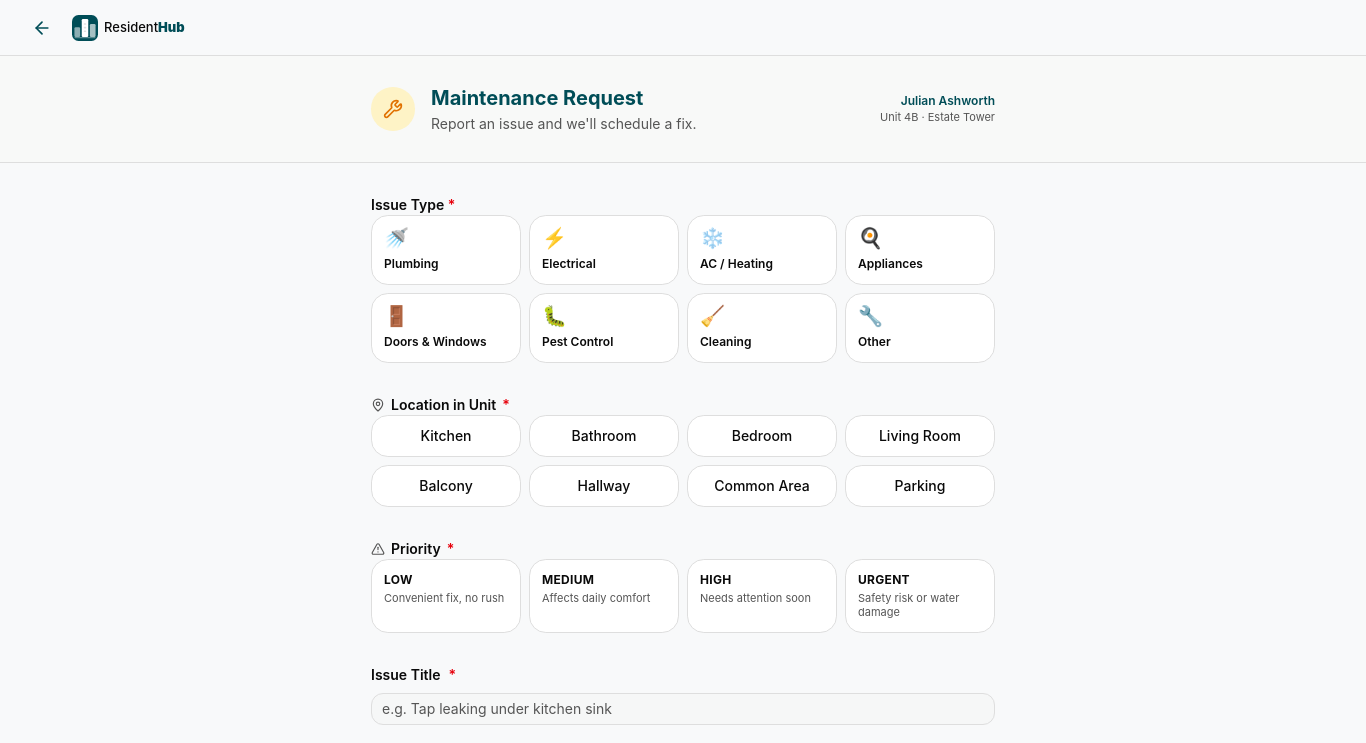
MaintenancePage › shows dynamic response-time estimate based on priority
This screenshot has width=1366, height=743.
What coordinates should you click on to do the following:
click the radio button labelled "Urgent Safety risk or water damage"
I would click on:
 (920, 596)
Its box is [845, 559, 995, 632].
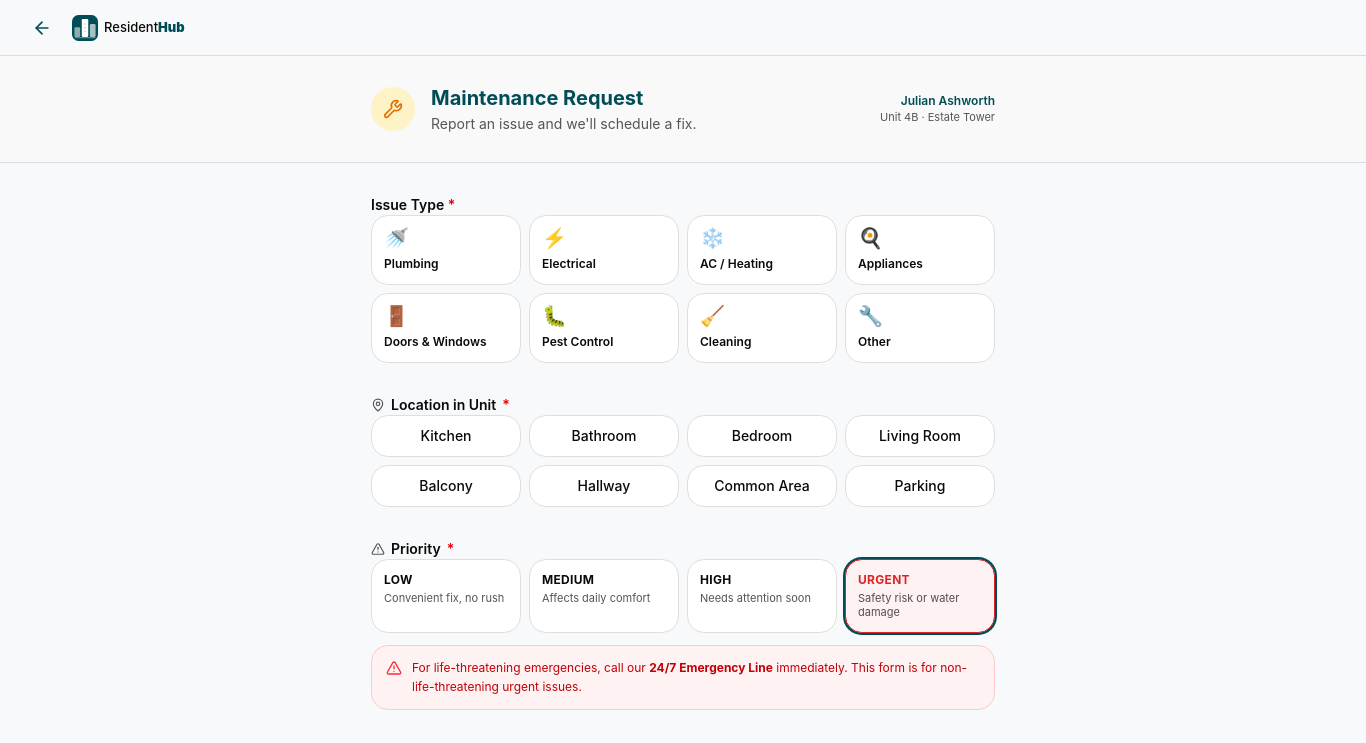
What coordinates should you click on to do the following:
click the radio button labelled "High Needs attention soon"
I would click on:
 (762, 596)
Its box is [687, 559, 837, 632].
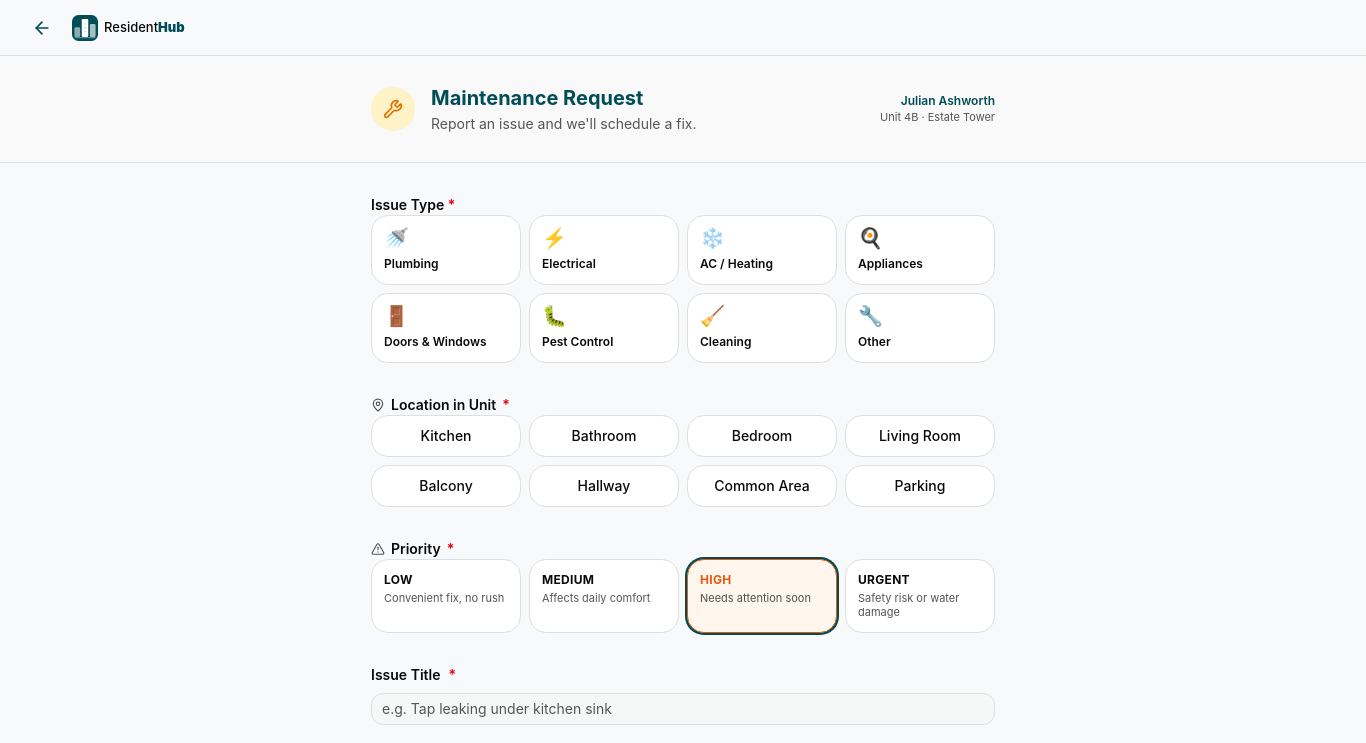
What coordinates should you click on to do the following:
click the radio button labelled "Low Convenient fix, no rush"
I would click on:
 (446, 596)
Its box is [371, 559, 521, 632].
(page scrolled)
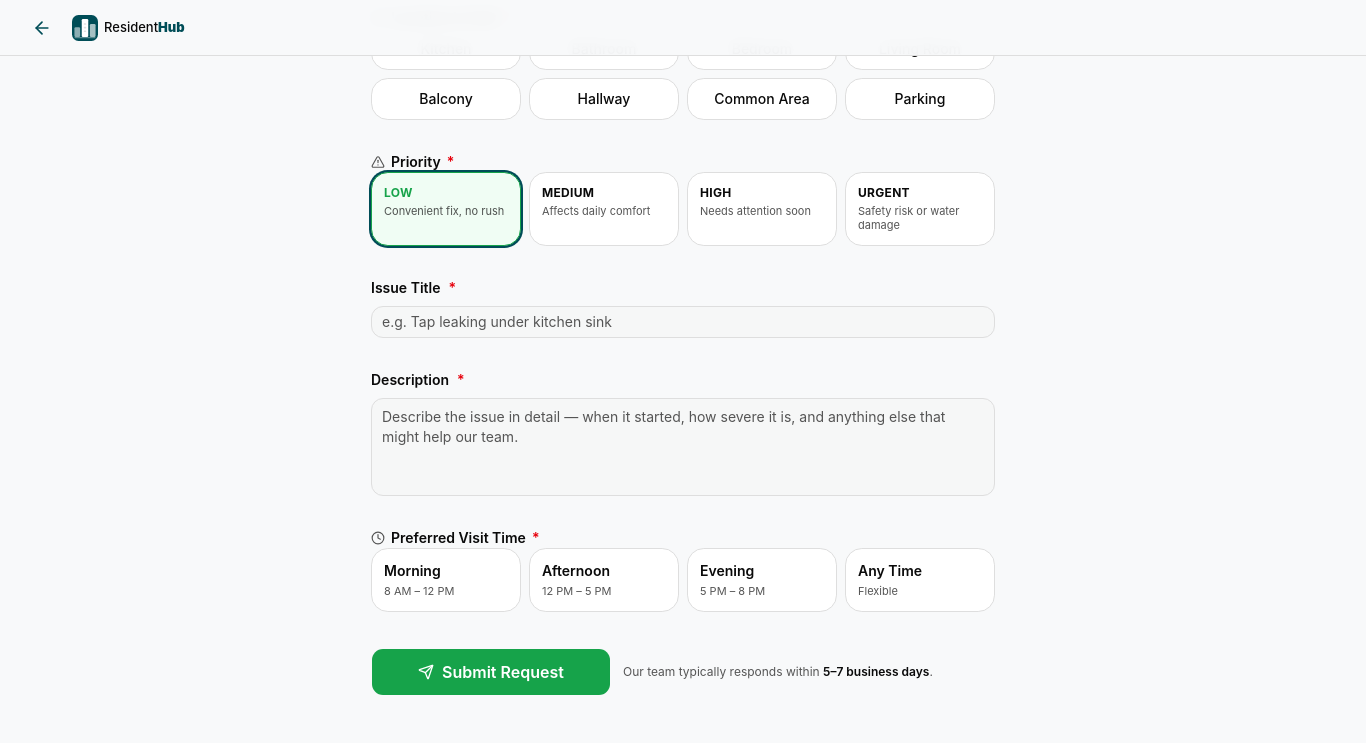
expect the text "5–7 business days" is shown: met, box [823, 664, 929, 679]
